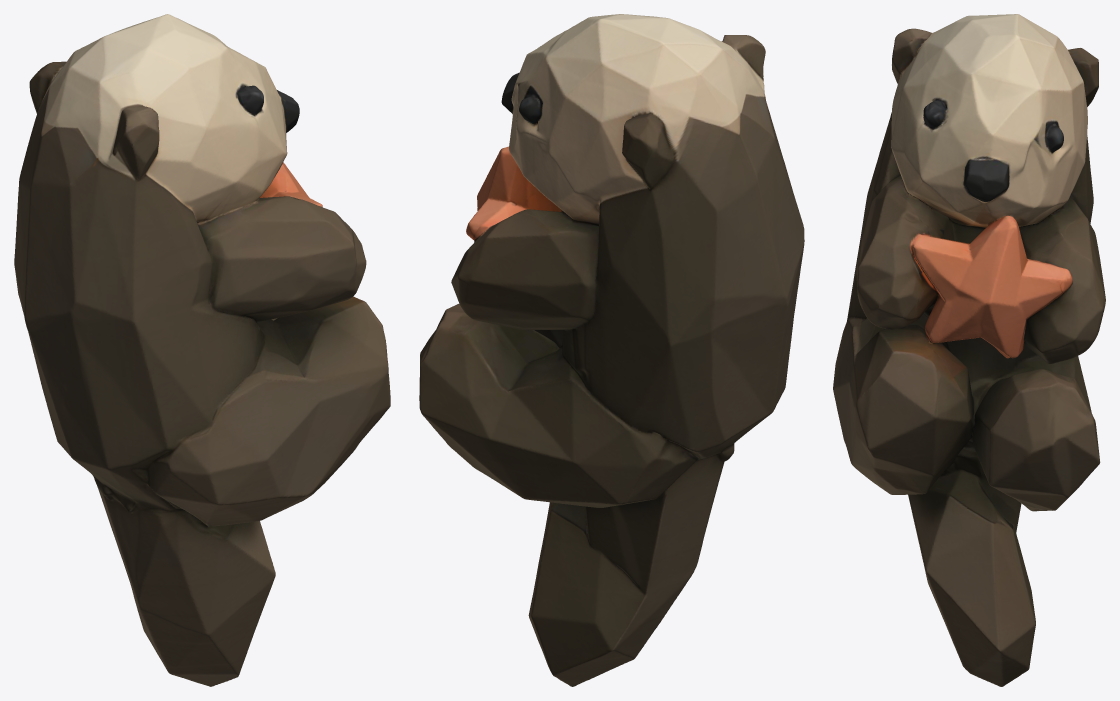
The model's file is otter.glb.
3 renders of one model, left to right at view 1: azimuth 30°, elevation 25°; view 2: azimuth 150°, elevation 25°; view 3: azimuth 270°, elevation 25°, orthographic. The views are drawn at different scales.
Parts seen in each view (by area): view 1: tripo_node_3e8a4b27-eeb6-48cf-8406-e319e5acfacf; view 2: tripo_node_3e8a4b27-eeb6-48cf-8406-e319e5acfacf; view 3: tripo_node_3e8a4b27-eeb6-48cf-8406-e319e5acfacf.
Part boxes in pixels (x1,y1,x2,y2): tripo_node_3e8a4b27-eeb6-48cf-8406-e319e5acfacf: [14, 14, 390, 686]; tripo_node_3e8a4b27-eeb6-48cf-8406-e319e5acfacf: [419, 14, 804, 686]; tripo_node_3e8a4b27-eeb6-48cf-8406-e319e5acfacf: [833, 14, 1105, 686].
Size of the model in its own units: 0.4995 by 1 by 0.3893.
1 material, 1 textured.
